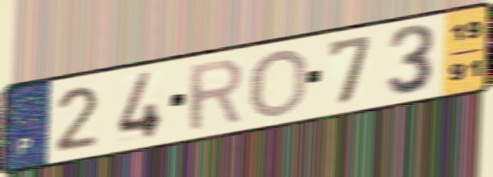2: (53, 85, 102, 155)
3: (383, 22, 441, 98)
4: (114, 69, 166, 143)
7: (325, 32, 379, 107)
O: (247, 47, 310, 120)
R: (186, 55, 246, 135)
